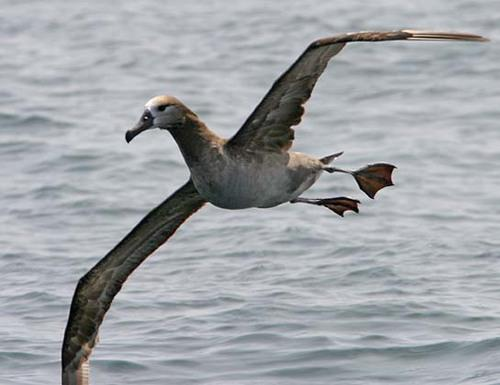001.Black_footed_Albatross: (61, 29, 485, 385)
